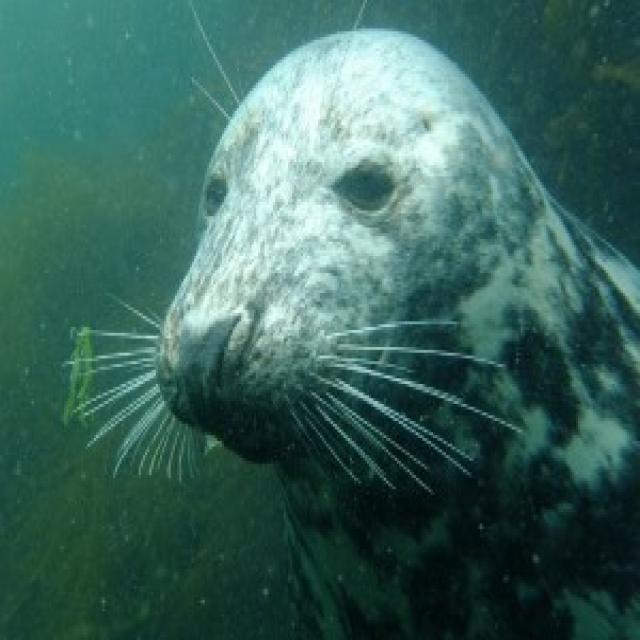Seal: (158, 28, 640, 626)
